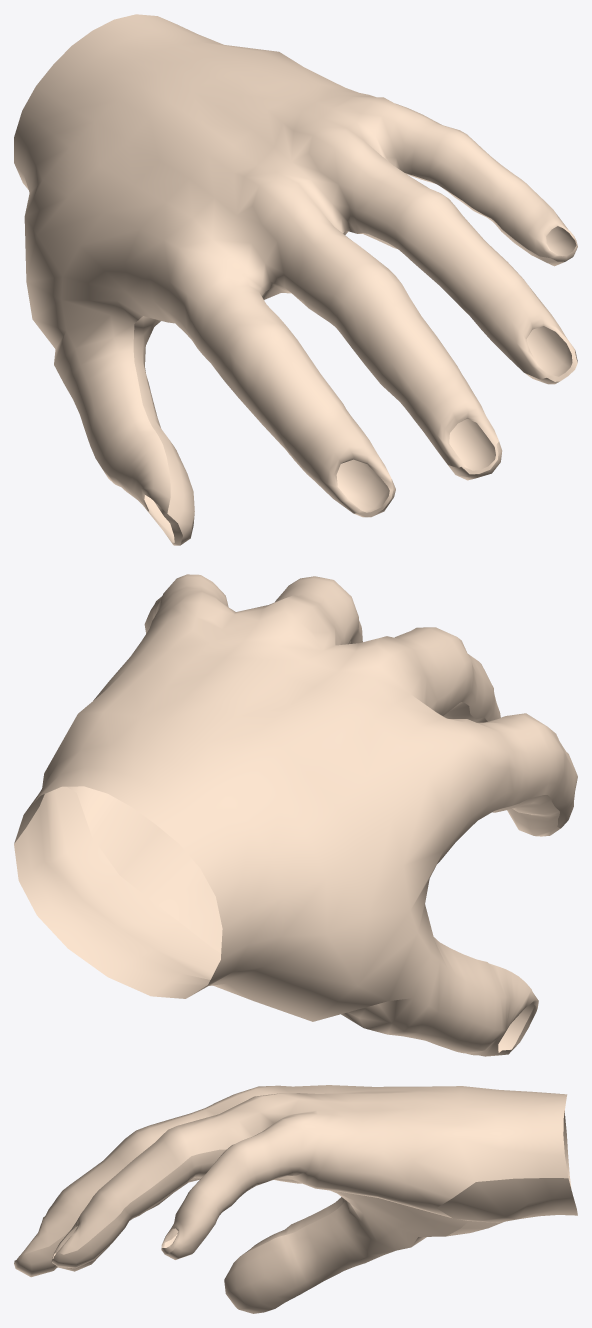
The model's file is mano_l_abierta.glb.
3 views of the same model, one above another, from view 1: azimuth 30°, elevation 25°; view 2: azimuth 150°, elevation 25°; view 3: azimuth 270°, elevation 25° (orthographic). The views are drawn at different scales.
Parts seen in each view (by area): view 1: mano_l_abierta; view 2: mano_l_abierta; view 3: mano_l_abierta.
Part boxes in pixels (x1,y1,x2,y2): mano_l_abierta: (14,14,577,545); mano_l_abierta: (14,574,577,1056); mano_l_abierta: (14,1085,577,1313).
Bounding box in the file's own units: 0.1125 × 0.0998 × 0.1792.
